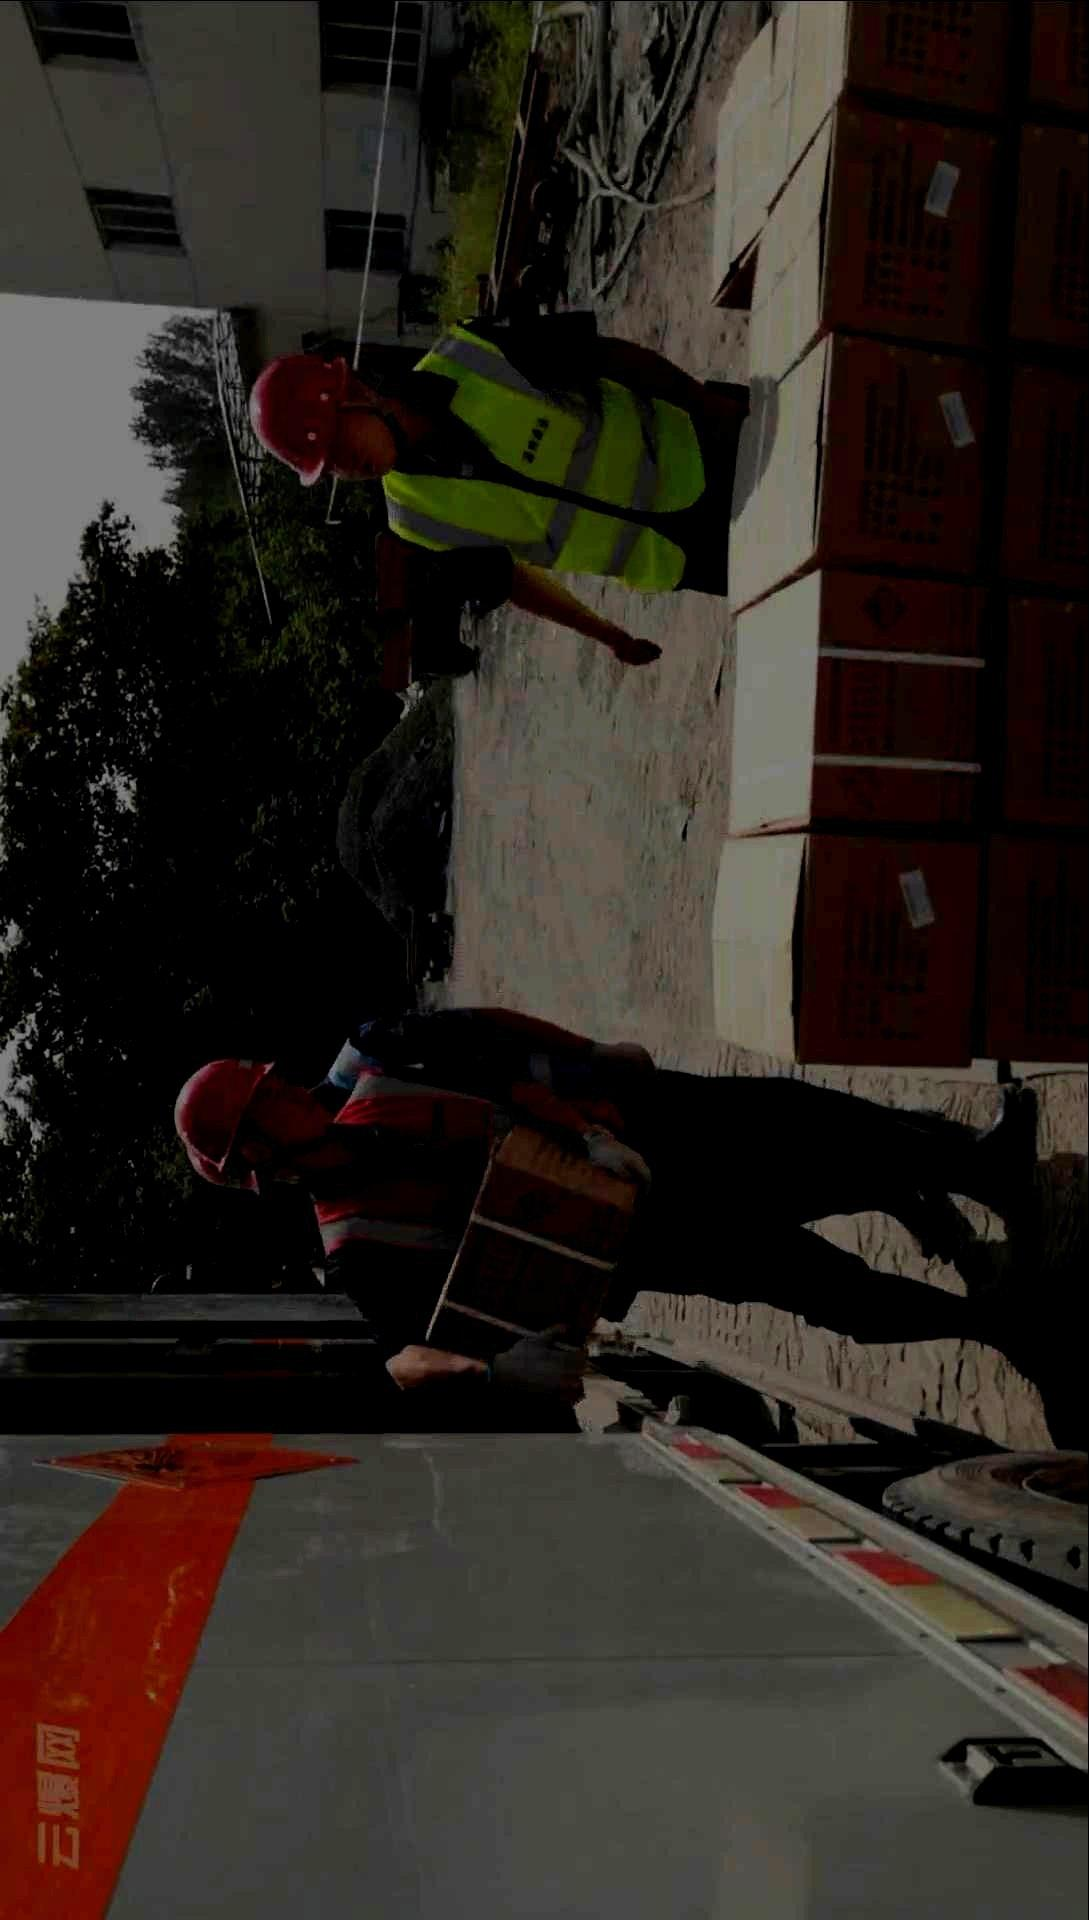helmet: (247, 352, 399, 487), (174, 1059, 326, 1174), (185, 1143, 306, 1196)
